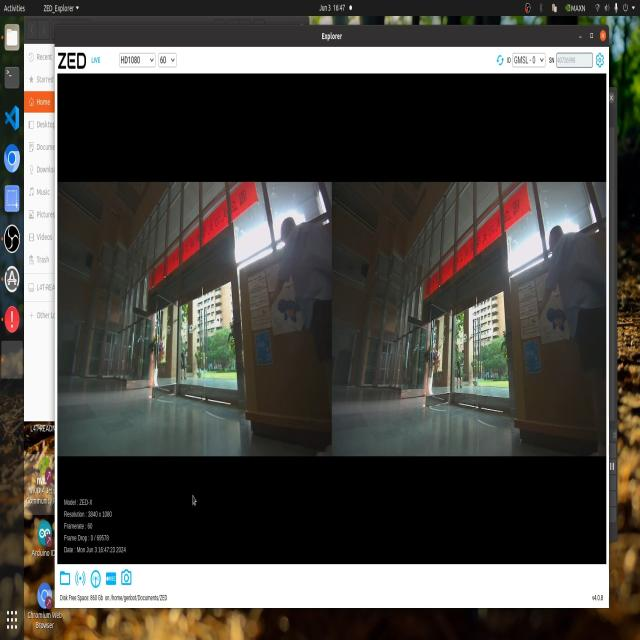blue: (544, 298, 574, 342), (275, 292, 303, 331)
